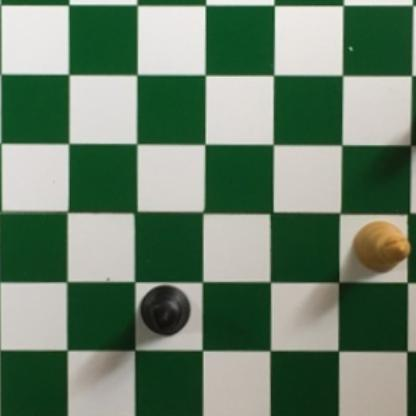black-bishop: (138, 283, 193, 338)
white-bishop: (352, 221, 411, 274)
